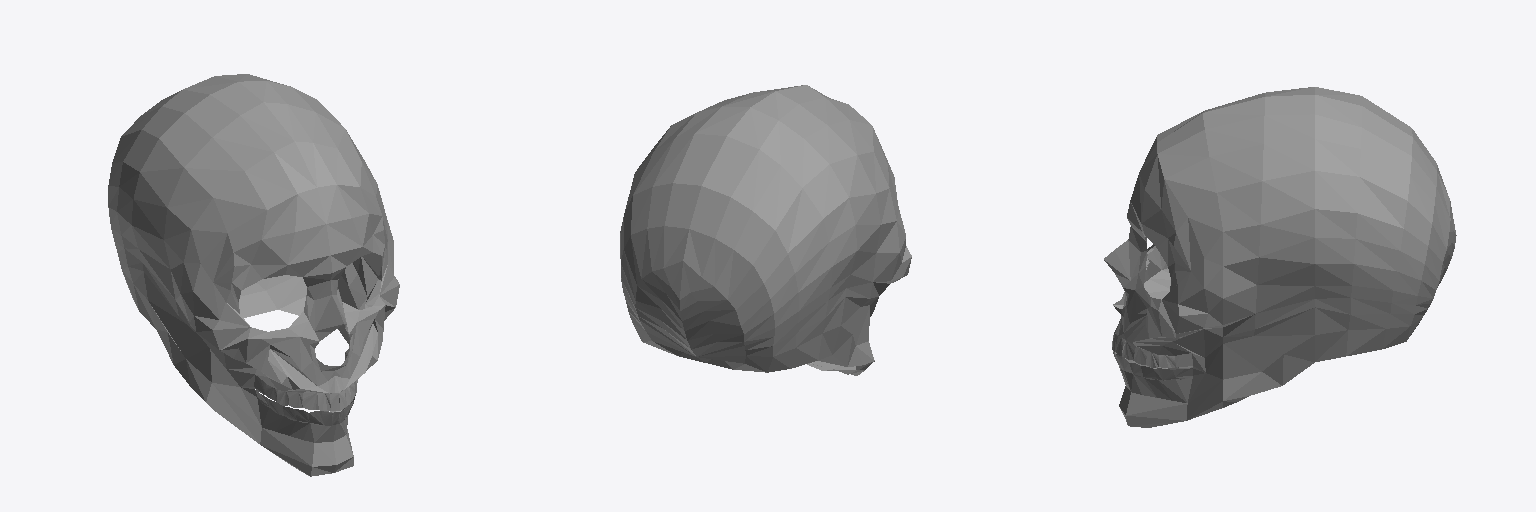
File: skull1.0.obj
3 renders of one model, left to right at view 1: azimuth 30°, elevation 25°; view 2: azimuth 150°, elevation 25°; view 3: azimuth 270°, elevation 25°, orthographic.
Visible parts, largest first — view 1: Cube; view 2: Cube; view 3: Cube.
Boxes of the visible parts, <box> form: Cube: <box>108,74,399,476</box>; Cube: <box>620,85,911,375</box>; Cube: <box>1104,87,1456,427</box>.
Size of the model in its own units: 3.25 by 4.69 by 4.65.